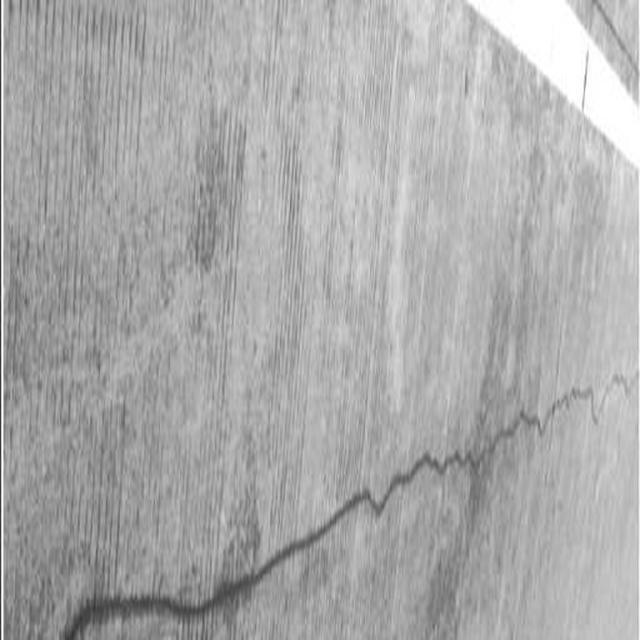Crack: (38, 350, 631, 640)
